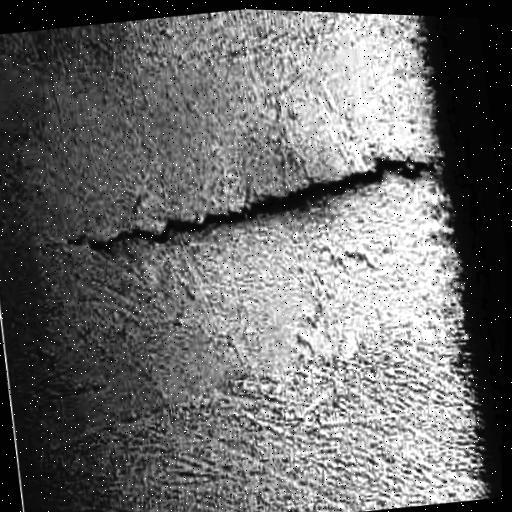crack: (67, 159, 432, 251)
